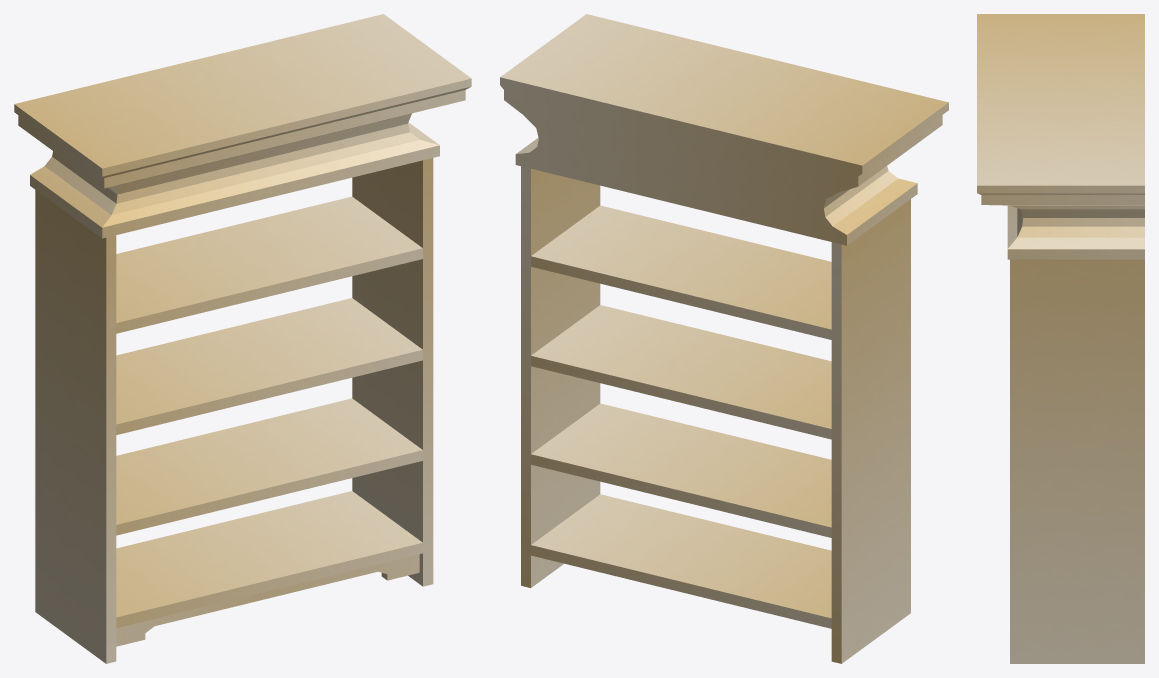
Rendered from SM_Guizi_01.fbx.
3 views of the same model, side by side, from view 1: azimuth 30°, elevation 25°; view 2: azimuth 150°, elevation 25°; view 3: azimuth 270°, elevation 25° (orthographic). The views are drawn at different scales.
Visible parts, largest first — view 1: SM_Guizi_01; view 2: SM_Guizi_01; view 3: SM_Guizi_01.
Boxes of the visible parts, x1=… form: SM_Guizi_01: x1=14, y1=14, x2=471, y2=663; SM_Guizi_01: x1=500, y1=14, x2=948, y2=663; SM_Guizi_01: x1=977, y1=14, x2=1144, y2=663.
Size of the model in its own units: 90.4 by 120 by 37.35.
